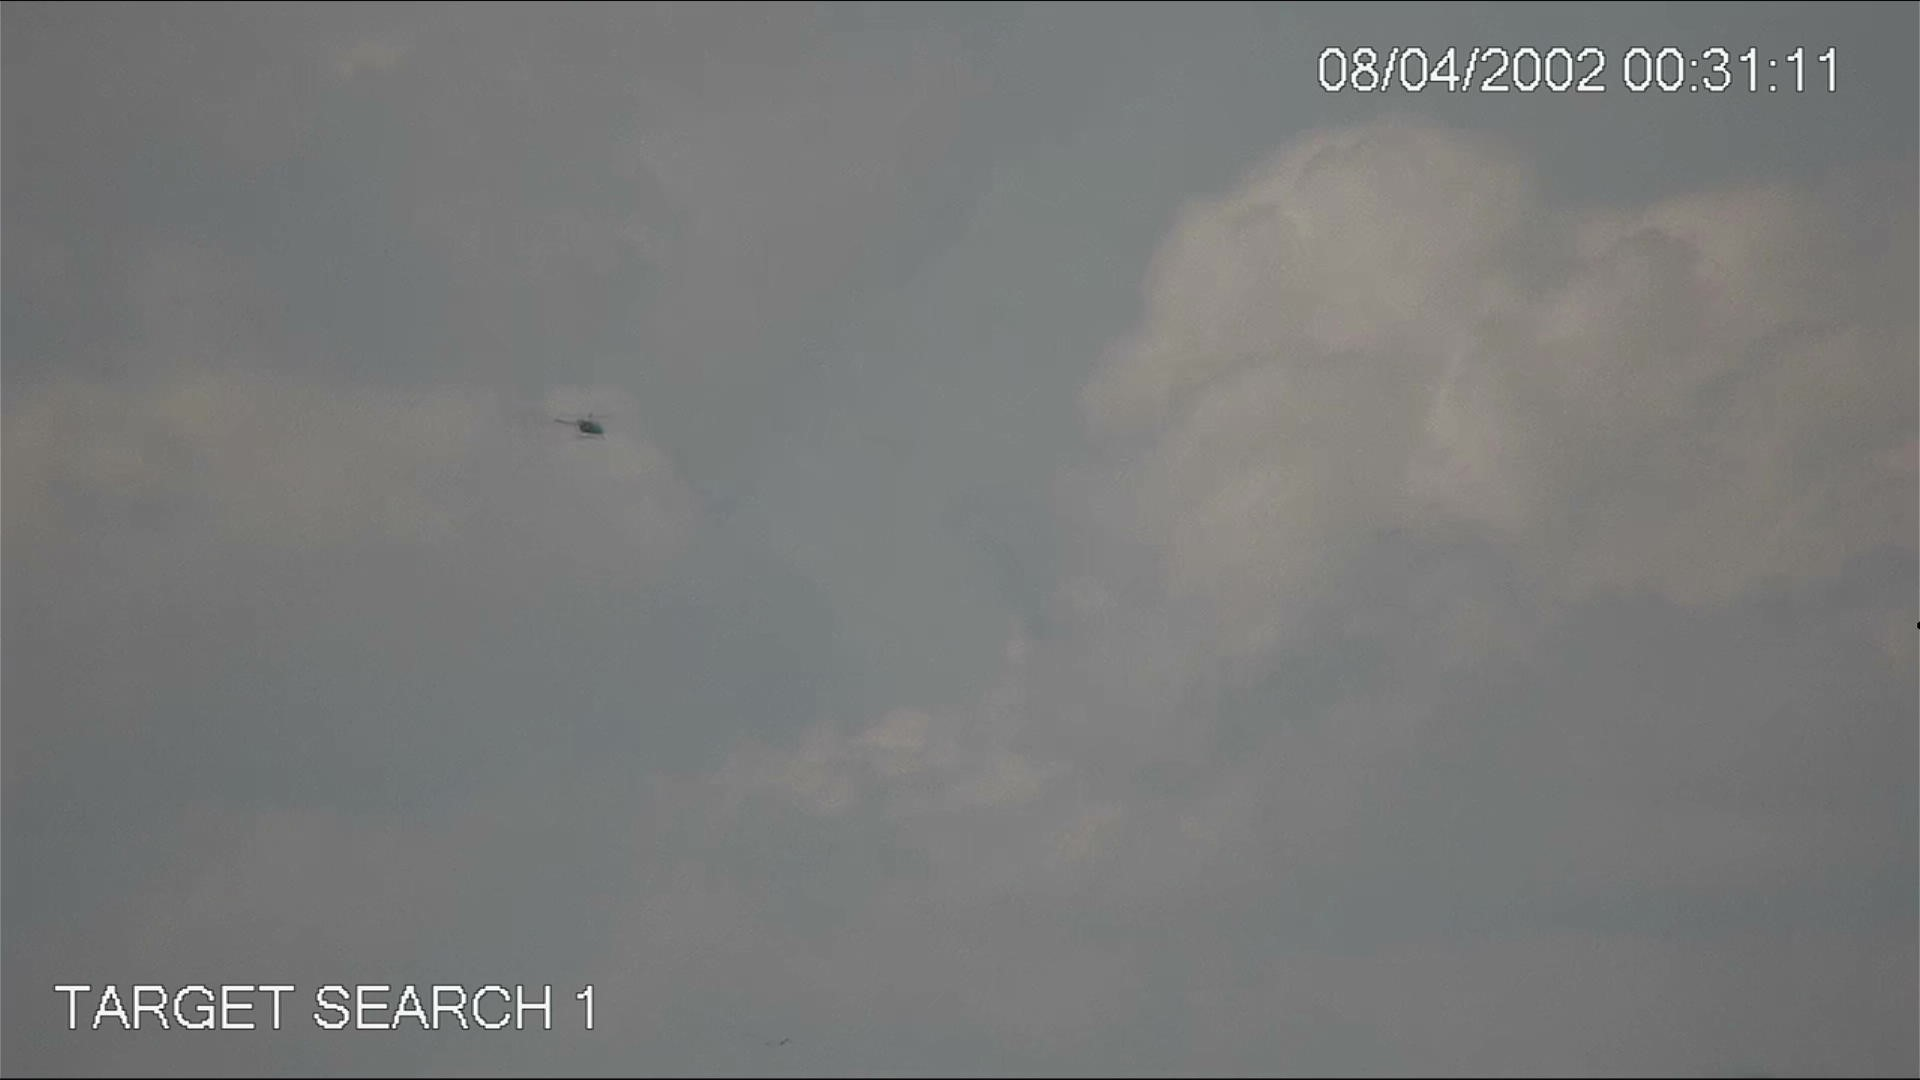SU_30: (549, 407, 611, 442)
